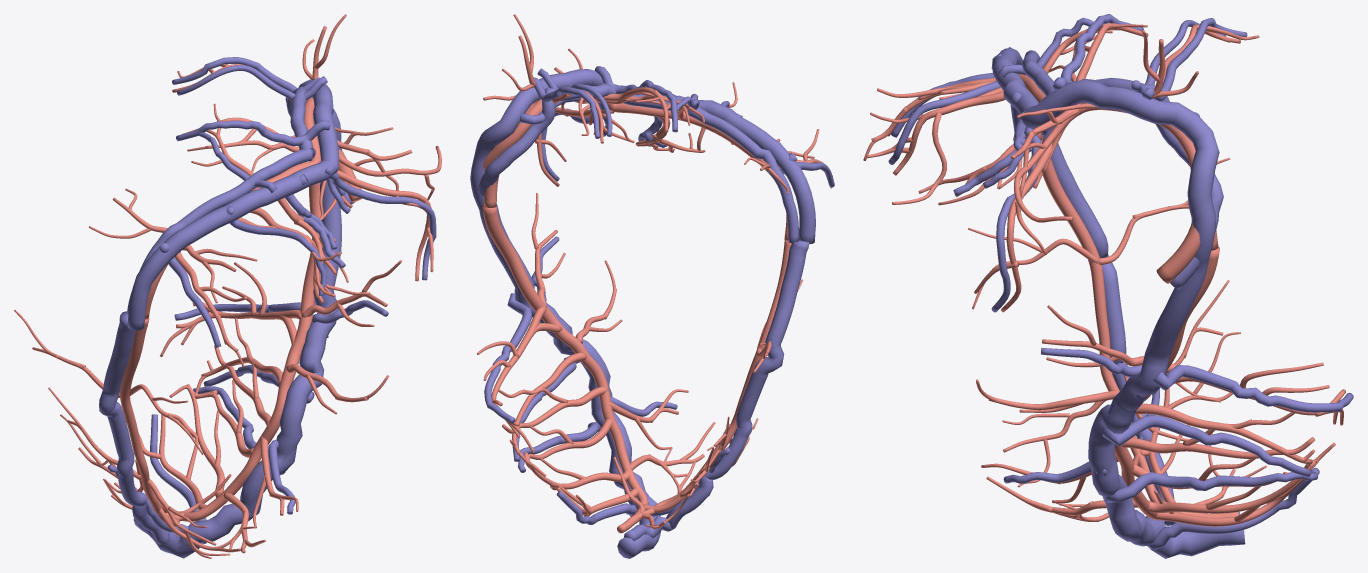
Rendered from vessels_71.glb.
The picture shows the model from 3 angles, left to right: view 1: azimuth 30°, elevation 25°; view 2: azimuth 150°, elevation 25°; view 3: azimuth 270°, elevation 25°; orthographic projection. The views are drawn at different scales.
Visible parts, largest first — view 1: Renderer Node; view 2: Renderer Node; view 3: Renderer Node.
Part boxes in pixels (<box>): Renderer Node: <box>14,14,441,558</box>; Renderer Node: <box>470,14,834,558</box>; Renderer Node: <box>863,14,1353,558</box>.
Bounding box in the file's own units: 90.88 × 124 × 89.47.
